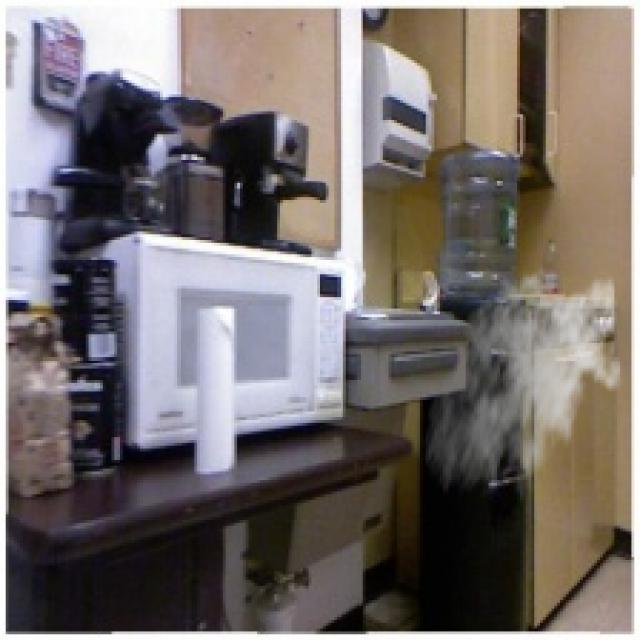smoke: (423, 263, 623, 514)
